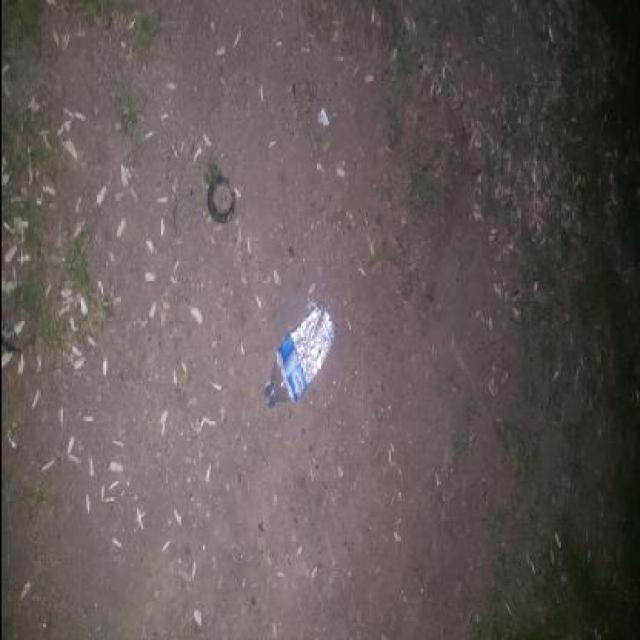plastic: (302, 304, 409, 378), (175, 407, 223, 435)
